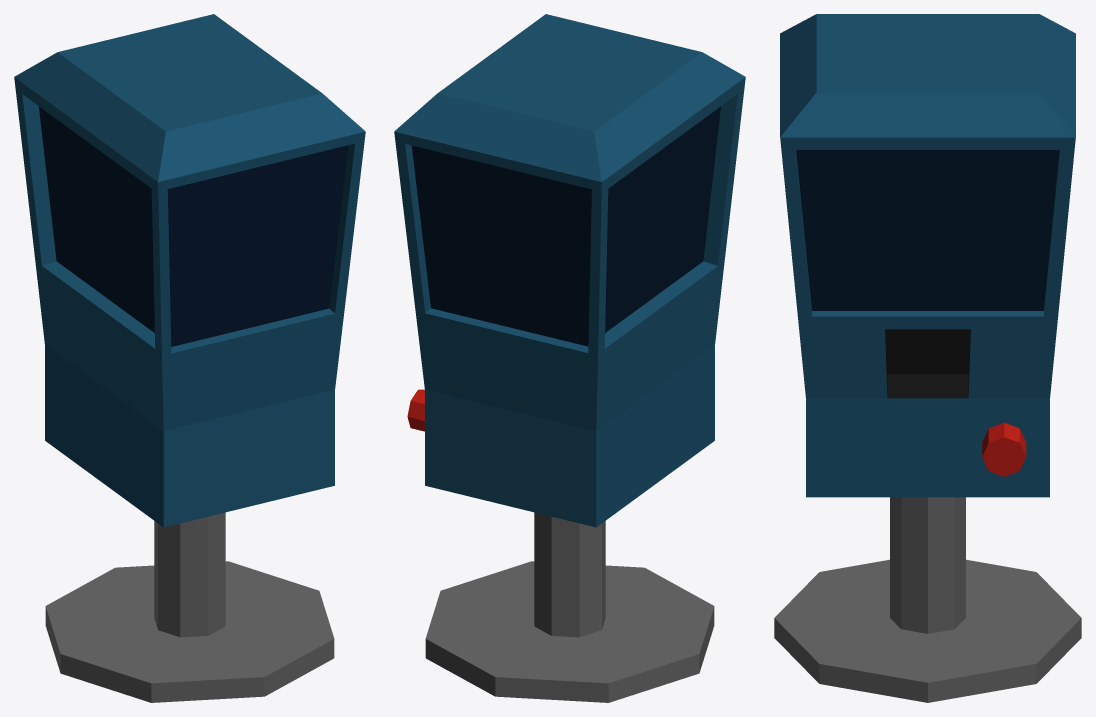
The model's file is distributeur.glb.
The picture shows the model from 3 angles, left to right: view 1: azimuth 30°, elevation 25°; view 2: azimuth 150°, elevation 25°; view 3: azimuth 270°, elevation 25°; orthographic projection. The views are drawn at different scales.
Visible parts, largest first — view 1: Cube; view 2: Cube; view 3: Cube.
Boxes of the visible parts, x1,y1,x2,y2 form: Cube: [14, 14, 365, 702]; Cube: [394, 14, 745, 702]; Cube: [774, 14, 1081, 702].
Size of the model in its own units: 1.51 by 3.17 by 1.51.
1 material, 1 textured.
